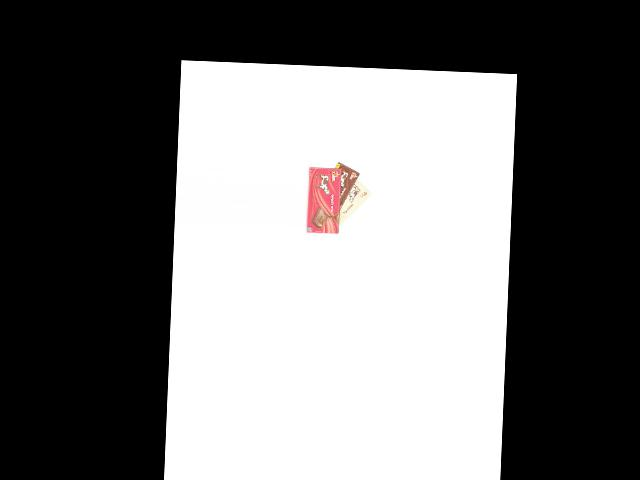chocolate: (332, 171, 372, 233)
